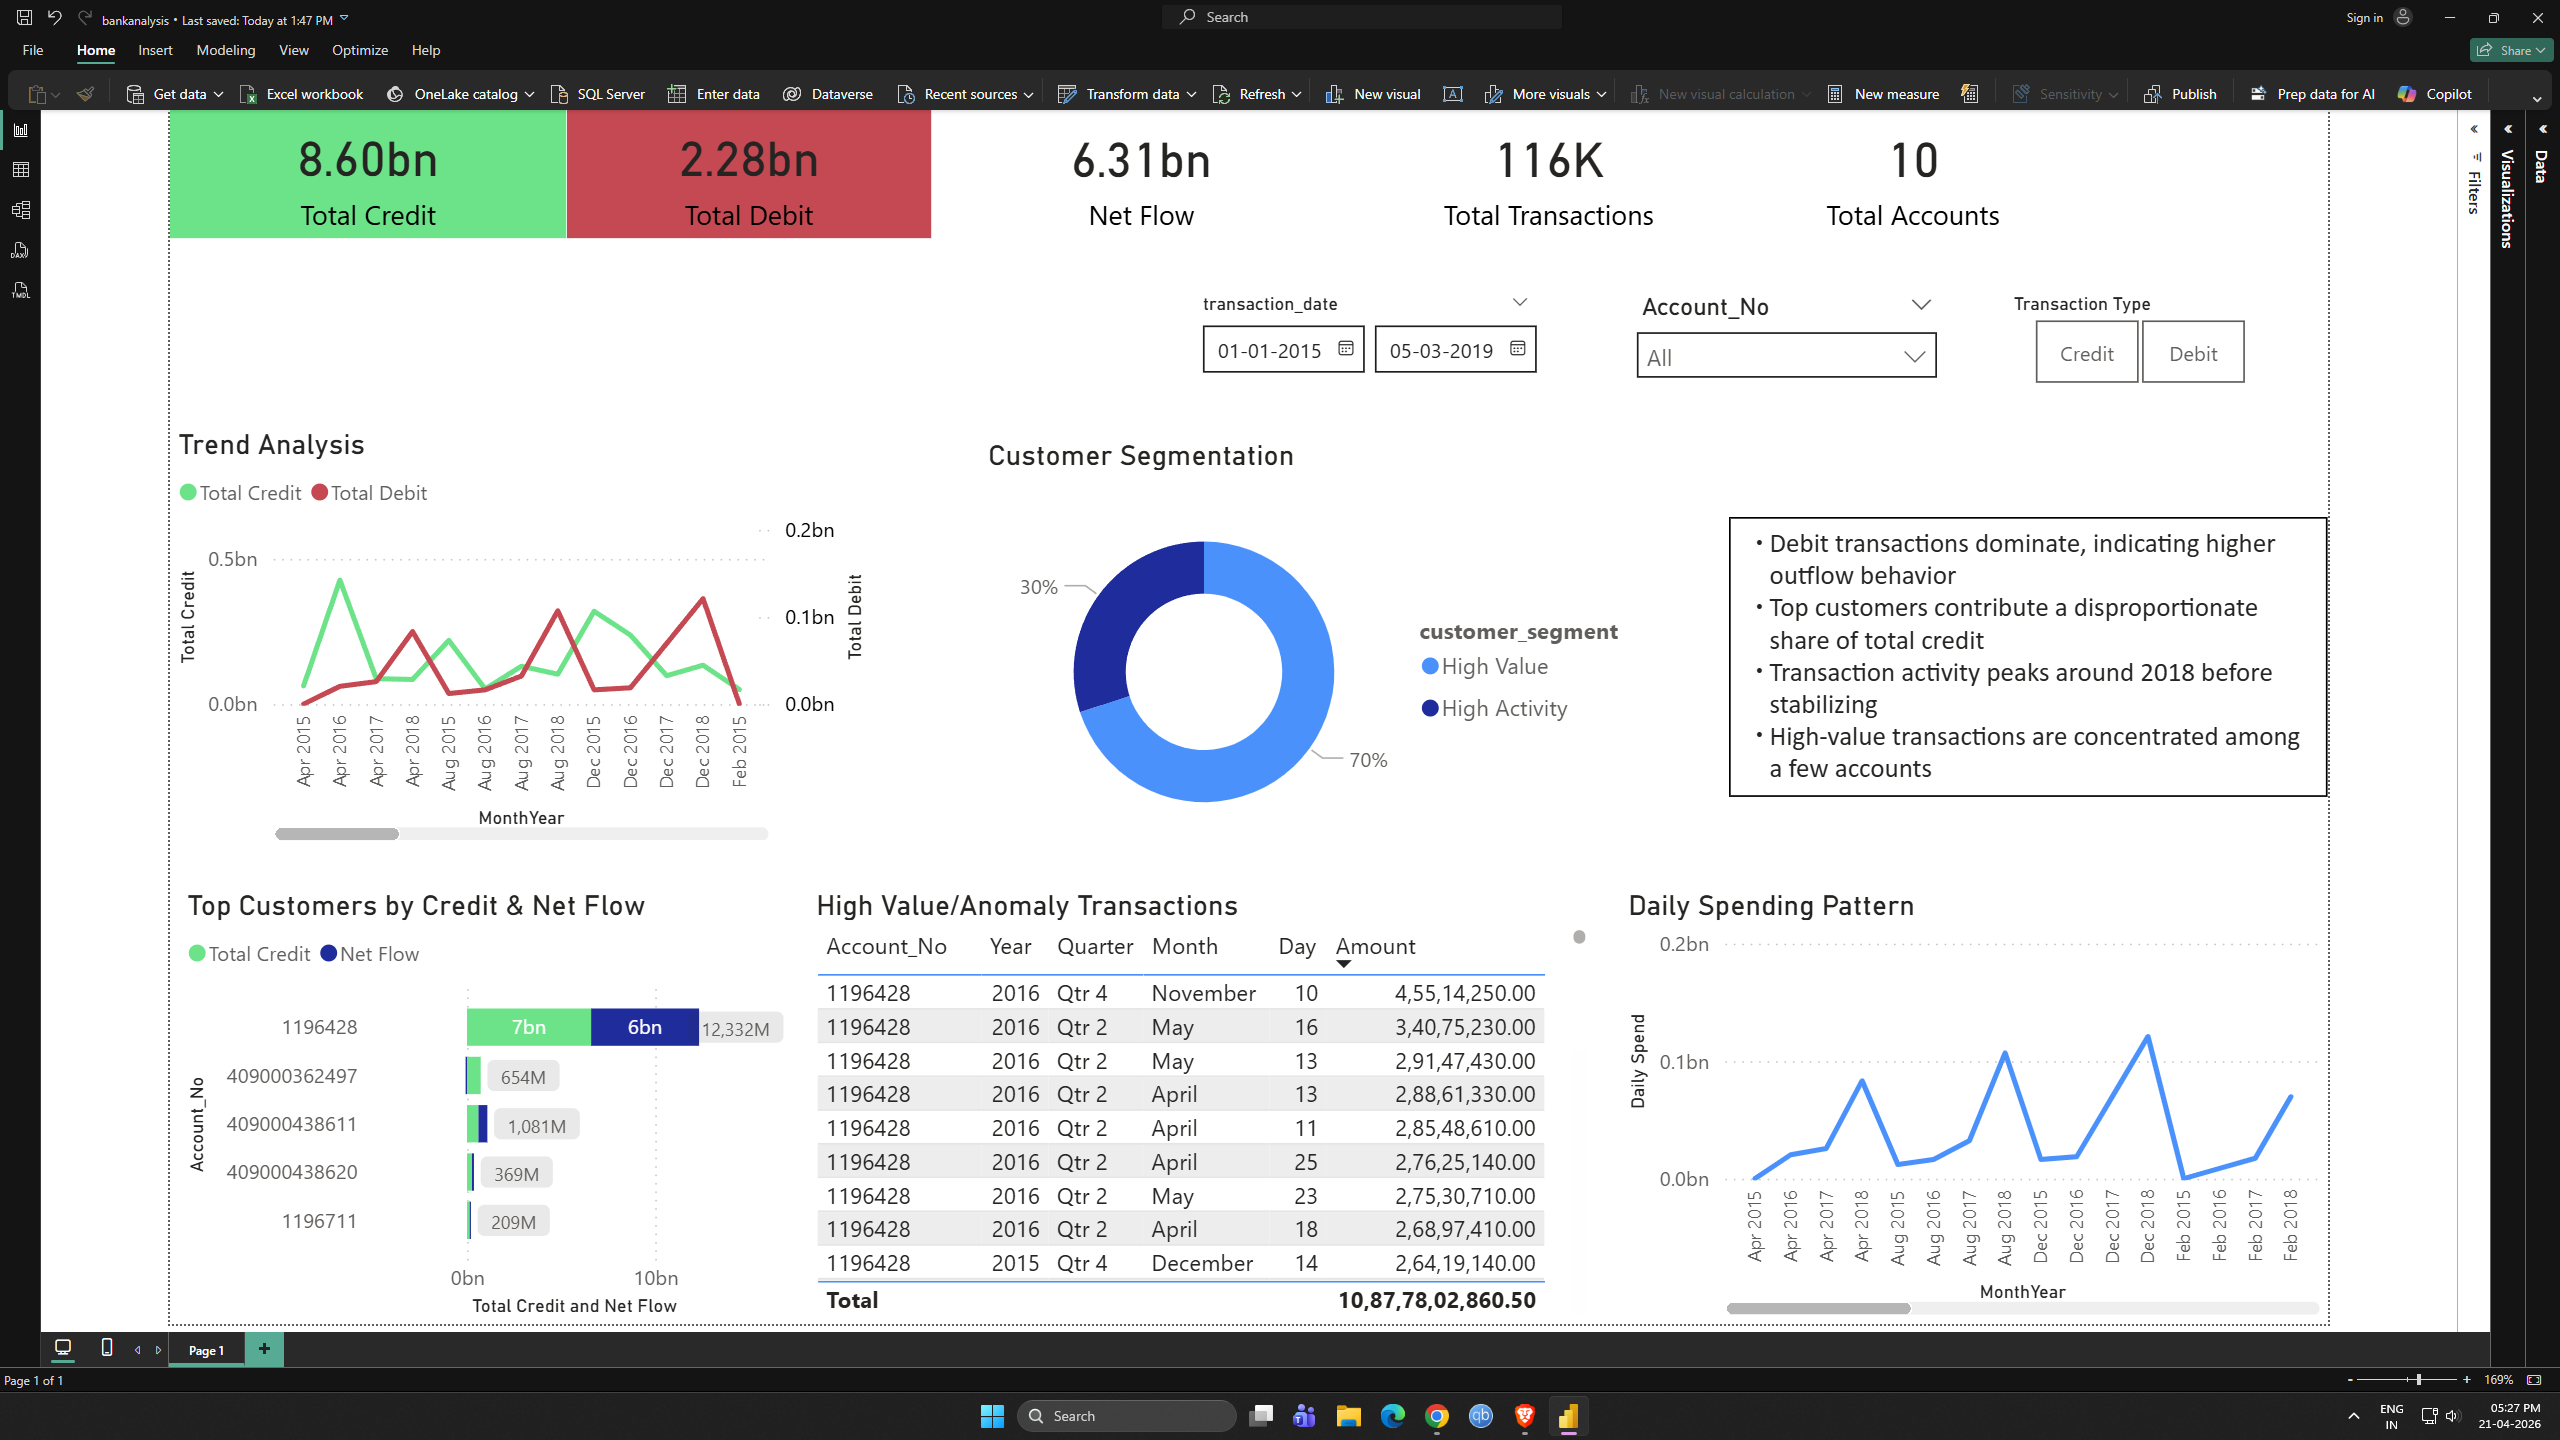

What the dashboard file says about the page in this screenshot:
{"tool":"powerbi","page":{"name":"Page 1","canvas":[1280,720],"ordinal":0},"visuals":[{"type":"card","fields":{"Values":["final_transactions.Net Flow"]},"box":[480.5,0,250.3,75.7],"z":0},{"type":"card","fields":{"Values":["final_transactions.Total Credit"]},"box":[0,0,235.2,75.7],"z":1000},{"type":"card","fields":{"Values":["final_transactions.Total Debit"]},"box":[235.2,0,216,75.7],"z":2000},{"type":"card","fields":{"Values":["final_transactions.Total Transactions"]},"box":[783.3,0,232.2,75.7],"z":3000},{"type":"card","fields":{"Values":["final_transactions.Total Accounts"]},"box":[1080.1,0,199.9,75.7],"z":4000},{"type":"lineChart","title":"Trend Analysis","fields":{"Category":["final_transactions.MonthYear","final_transactions.transaction_date.Variation.Date Hierarchy.Year","final_transactions.transaction_date.Variation.Date Hierarchy.Quarter","final_transactions.transaction_date.Variation.Date Hierarchy.Month","final_transactions.transaction_date.Variation.Date Hierarchy.Day"],"Y":["final_transactions.Total Credit"],"Y2":["final_transactions.Total Debit"]},"box":[0,187.8,416.9,250.3],"z":5000},{"type":"barChart","title":"Top Customers by Credit & Net Flow","fields":{"Category":["final_transactions.Account_No"],"Y":["final_transactions.Total Credit","final_transactions.Net Flow"]},"box":[5,461.3,373.5,258.4],"z":6000},{"type":"donutChart","title":"Customer Segmentation","fields":{"Category":["customer_summary.customer_segment"],"Y":["CountNonNull(customer_summary.Account_No)"]},"box":[480.5,194.8,390.7,258.4],"z":7000},{"type":"tableEx","title":"High Value/Anomaly Transactions","fields":{"Values":["final_transactions.Account_No","final_transactions.transaction_date.Variation.Date Hierarchy.Year","final_transactions.transaction_date.Variation.Date Hierarchy.Quarter","final_transactions.transaction_date.Variation.Date Hierarchy.Month","final_transactions.transaction_date.Variation.Date Hierarchy.Day","final_transactions.Amount"]},"box":[378.5,461.3,467.4,258.4],"z":8000},{"type":"lineChart","title":"Daily Spending Pattern","fields":{"Category":["final_transactions.MonthYear","final_transactions.transaction_date.Variation.Date Hierarchy.Year","final_transactions.transaction_date.Variation.Date Hierarchy.Quarter","final_transactions.transaction_date.Variation.Date Hierarchy.Month","final_transactions.transaction_date.Variation.Date Hierarchy.Day"],"Y":["final_transactions.Daily Spend"]},"box":[860.1,461.3,419.9,258.4],"z":9000},{"type":"slicer","fields":{"Values":["final_transactions.Account_No"]},"box":[860.1,104,197.9,65.6],"z":10000},{"type":"slicer","fields":{"Values":["final_transactions.Transaction Type"]},"box":[1080.1,104,174.6,83.8],"z":11000},{"type":"slicer","fields":{"Values":["final_transactions.transaction_date"]},"box":[605.7,92.9,219.1,88.8],"z":12000},{"type":"textbox","box":[924.7,241.3,355.3,165.6],"z":12001}]}

Visuals, with their boxes in screenshot pixels (x1, y1, x2, y2):
card - final_transactions.Net Flow: {"x1": 947, "y1": 0, "x2": 1424, "y2": 97}
card - final_transactions.Total Credit: {"x1": 33, "y1": 0, "x2": 481, "y2": 97}
card - final_transactions.Total Debit: {"x1": 481, "y1": 0, "x2": 892, "y2": 97}
card - final_transactions.Total Transactions: {"x1": 1524, "y1": 0, "x2": 1965, "y2": 97}
card - final_transactions.Total Accounts: {"x1": 2088, "y1": 0, "x2": 2468, "y2": 97}
"Trend Analysis" lineChart: {"x1": 33, "y1": 311, "x2": 826, "y2": 787}
"Top Customers by Credit & Net Flow" barChart: {"x1": 43, "y1": 831, "x2": 753, "y2": 1323}
"Customer Segmentation" donutChart: {"x1": 947, "y1": 324, "x2": 1691, "y2": 816}
"High Value/Anomaly Transactions" tableEx: {"x1": 753, "y1": 831, "x2": 1643, "y2": 1323}
"Daily Spending Pattern" lineChart: {"x1": 1670, "y1": 831, "x2": 2468, "y2": 1323}
slicer - final_transactions.Account_No: {"x1": 1670, "y1": 151, "x2": 2046, "y2": 276}
slicer - final_transactions.Transaction Type: {"x1": 2088, "y1": 151, "x2": 2420, "y2": 311}
slicer - final_transactions.transaction_date: {"x1": 1186, "y1": 130, "x2": 1602, "y2": 299}
textbox: {"x1": 1793, "y1": 412, "x2": 2468, "y2": 727}
